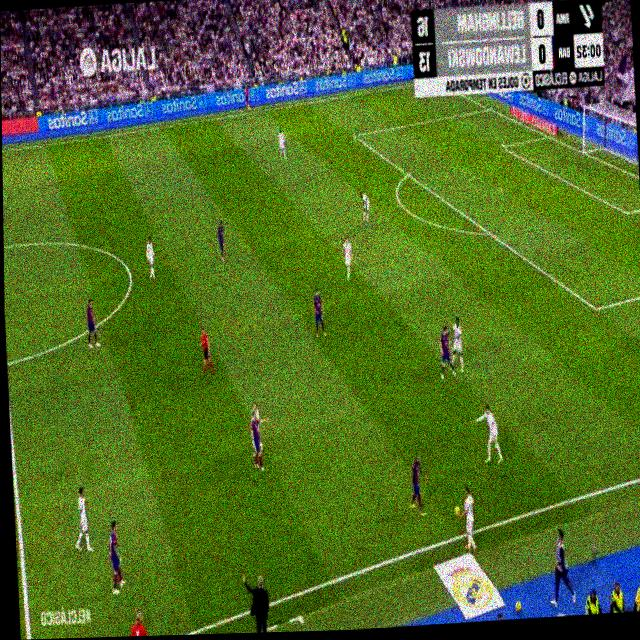bigarea_bottom_inner: (591, 297, 602, 319)
bigarea_top_inner: (352, 128, 358, 141)
bigarea_top_outter: (486, 102, 492, 112)
bottom_arc_area_intersection: (484, 223, 493, 240)
smallarea_bottom_inner: (623, 203, 632, 222)
smallarea_top_inner: (501, 142, 505, 150)
top_arc_area_intersection: (404, 165, 412, 180)
